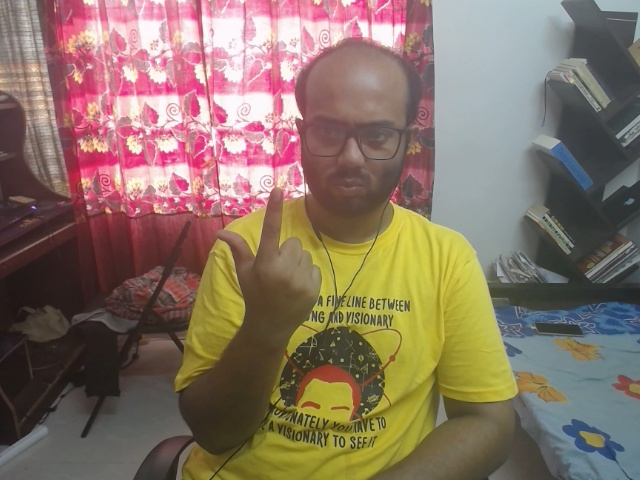seven: (190, 179, 348, 338)
